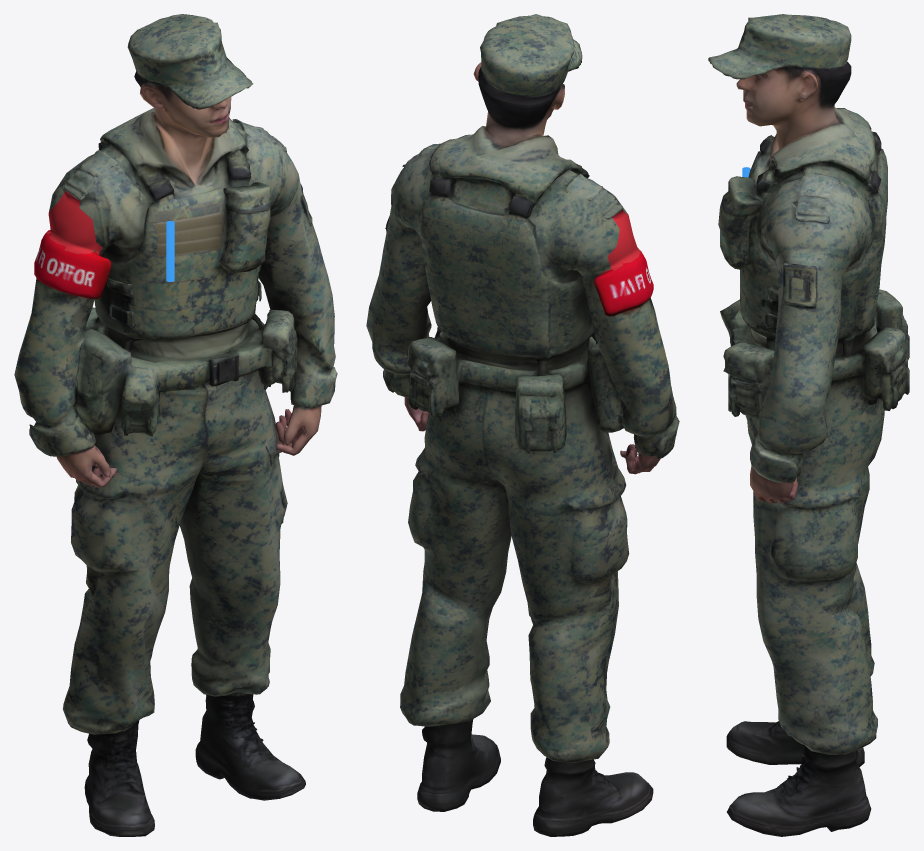
File: op4_tnr.glb
The picture shows the model from 3 angles, left to right: view 1: azimuth 30°, elevation 25°; view 2: azimuth 150°, elevation 25°; view 3: azimuth 270°, elevation 25°; orthographic projection.
Parts seen in each view (by area): view 1: tripo_node_7b8ebf50; view 2: tripo_node_7b8ebf50; view 3: tripo_node_7b8ebf50.
Part boxes in pixels (<box>): tripo_node_7b8ebf50: <box>14,14,337,836</box>; tripo_node_7b8ebf50: <box>366,14,679,836</box>; tripo_node_7b8ebf50: <box>708,14,909,836</box>.
Bounding box in the file's own units: 0.416 × 0.998 × 0.2363.
Materials: 3 (1 with a texture image).
